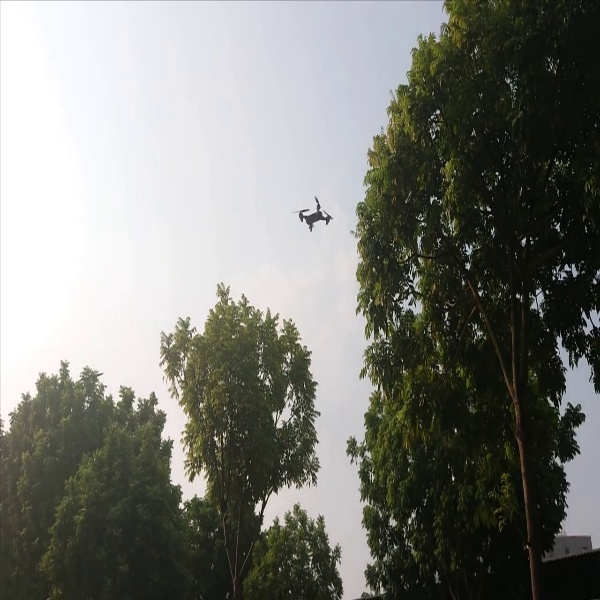drone: (288, 188, 342, 233)
